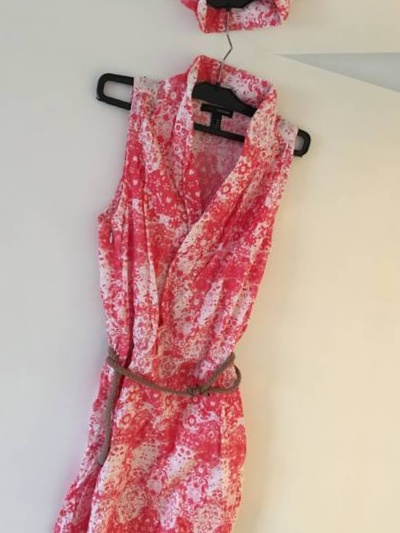Dress: (13, 48, 358, 533), (87, 0, 400, 45), (0, 523, 290, 533)
